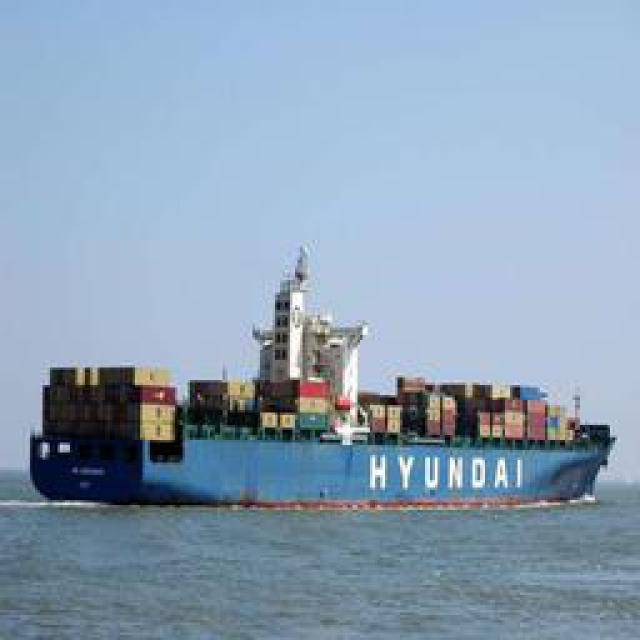Ship: (31, 236, 621, 514)
